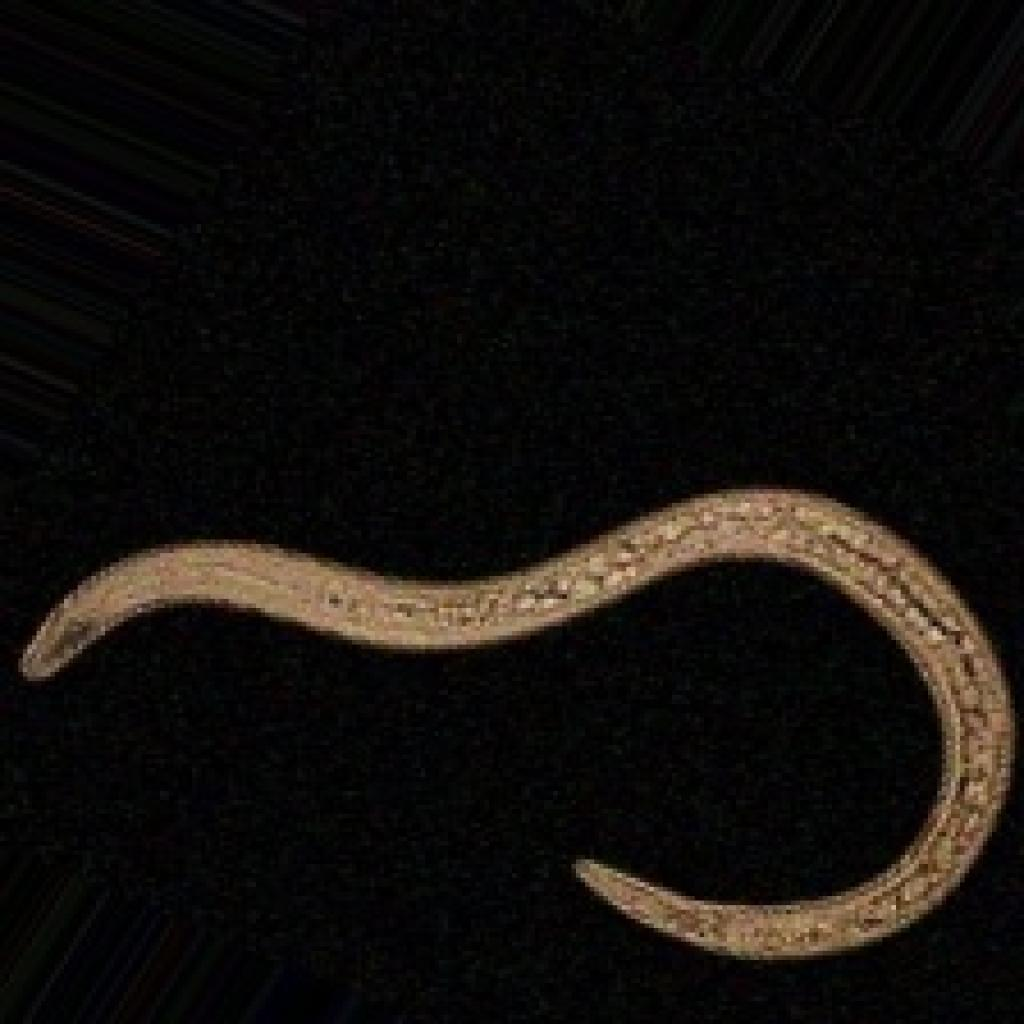Nematode: (0, 0, 1019, 1019), (9, 476, 1020, 964)
